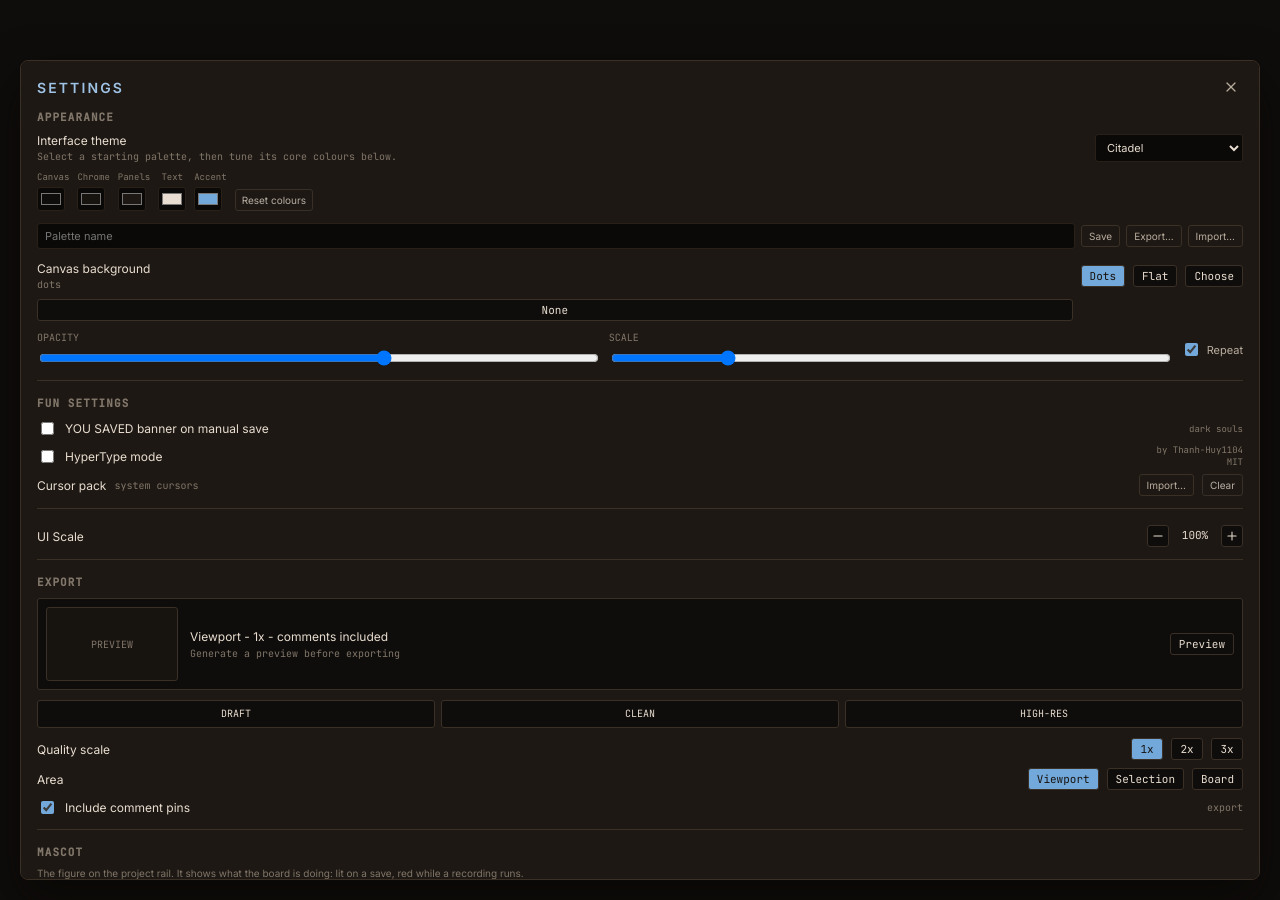
Scenario: importing a cursor pack › refuses a pack pointing at a remote image rather than applying it
What coordinates should you click on to do the following:
click the button "Import…" in the row of "system cursors"
I would click on:
 (1166, 485)
Its box is [1138,474,1194,496].
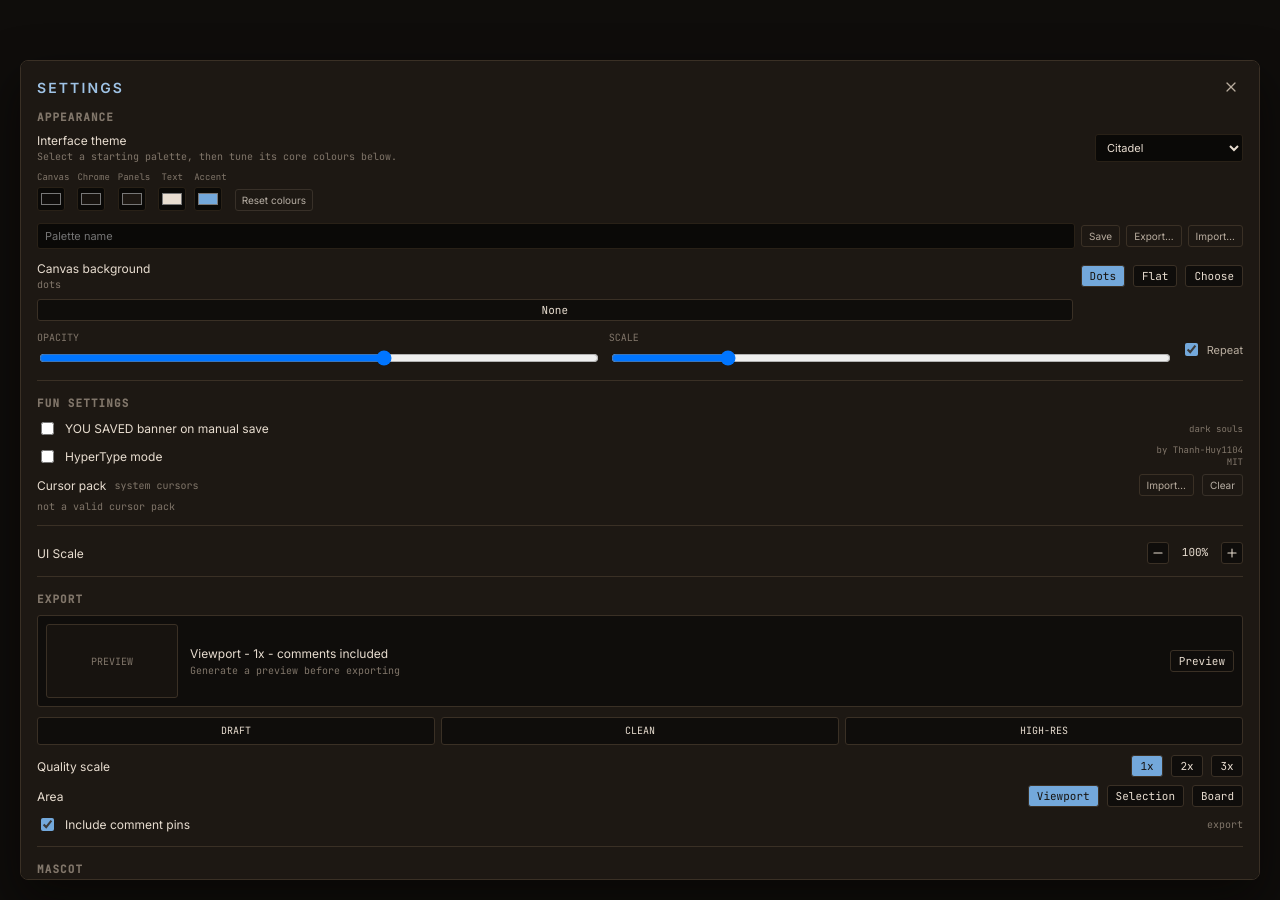
Now the text "not a valid cursor pack" is shown, box [37,500,175,513]
